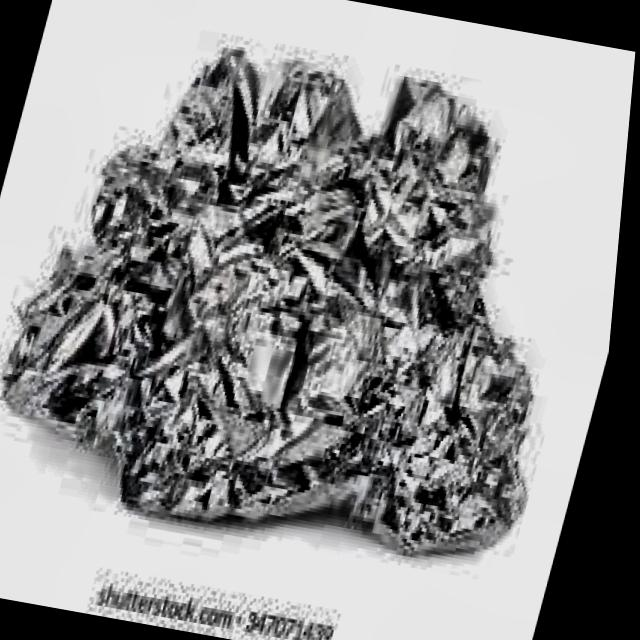Foil: (0, 0, 640, 608)
